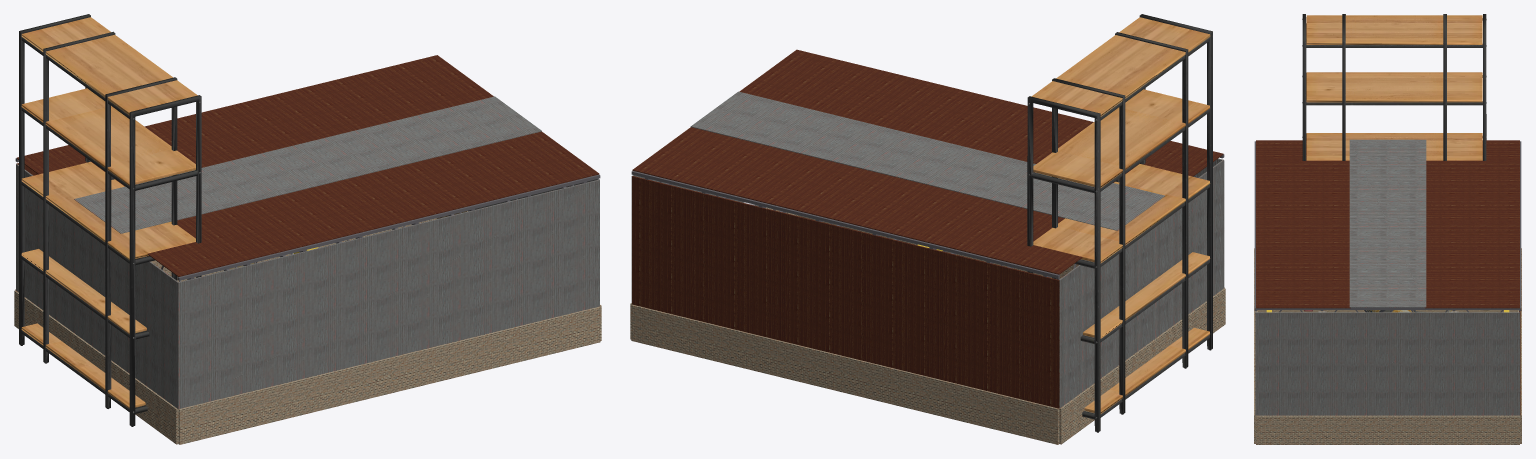
File: depo.glb
The picture shows the model from 3 angles, left to right: view 1: azimuth 30°, elevation 25°; view 2: azimuth 150°, elevation 25°; view 3: azimuth 270°, elevation 25°; orthographic projection. The views are drawn at different scales.
Visible parts, largest first — view 1: static__worn_corrugated_iron, static__steel_frame_shelves_01, roofA__rusty_corrugated_iron, static__brick_wall_02, roofM__worn_corrugated_iron, roofB__rusty_corrugated_iron, static__steel; view 2: static__rusty_corrugated_iron, static__steel_frame_shelves_01, roofB__rusty_corrugated_iron, static__brick_wall_02, roofM__worn_corrugated_iron, roofA__rusty_corrugated_iron, static__worn_corrugated_iron, static__steel; view 3: static__worn_corrugated_iron, static__steel_frame_shelves_01, roofA__rusty_corrugated_iron, roofB__rusty_corrugated_iron, roofM__worn_corrugated_iron, static__brick_wall_02, static__steel, static__garage_floor.
Part boxes in pixels (x1,y1,x2,y2): static__worn_corrugated_iron: (16, 164, 599, 408); static__steel_frame_shelves_01: (19, 14, 201, 426); roofA__rusty_corrugated_iron: (147, 131, 599, 276); static__brick_wall_02: (14, 211, 601, 444); roofM__worn_corrugated_iron: (74, 96, 541, 233); roofB__rusty_corrugated_iron: (16, 55, 493, 186); static__steel: (15, 158, 600, 281); static__rusty_corrugated_iron: (632, 176, 1059, 408); static__steel_frame_shelves_01: (1027, 14, 1212, 432); roofB__rusty_corrugated_iron: (632, 127, 1082, 274); static__brick_wall_02: (630, 207, 1225, 444); roofM__worn_corrugated_iron: (690, 91, 1164, 230); roofA__rusty_corrugated_iron: (739, 49, 1223, 182); static__worn_corrugated_iron: (631, 158, 1224, 408); static__steel: (631, 154, 1224, 279); static__worn_corrugated_iron: (1255, 311, 1519, 415); static__steel_frame_shelves_01: (1302, 14, 1486, 160); roofA__rusty_corrugated_iron: (1256, 140, 1350, 308); roofB__rusty_corrugated_iron: (1425, 140, 1519, 308); roofM__worn_corrugated_iron: (1349, 139, 1426, 307); static__brick_wall_02: (1254, 248, 1521, 444); static__steel: (1254, 141, 1521, 312); static__garage_floor: (1258, 310, 1517, 312).
Bounding box in the file's own units: 31.46 × 21.69 × 20.3.
45 materials, 45 textured.
